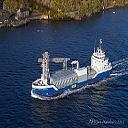Ships: (30, 45, 113, 100)
